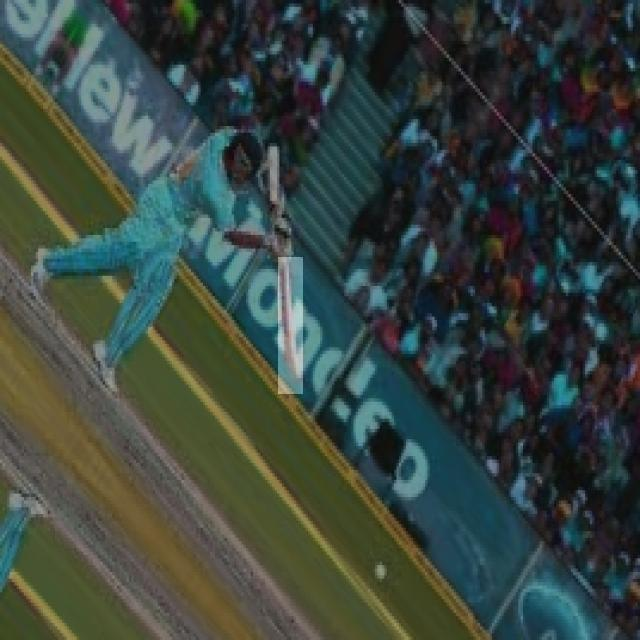bat: (276, 253, 311, 396)
toe: (265, 365, 315, 388)
